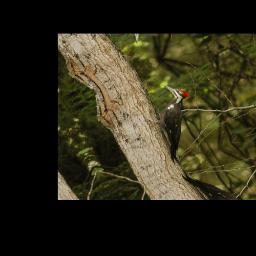Woodpecker: (129, 77, 221, 167)
